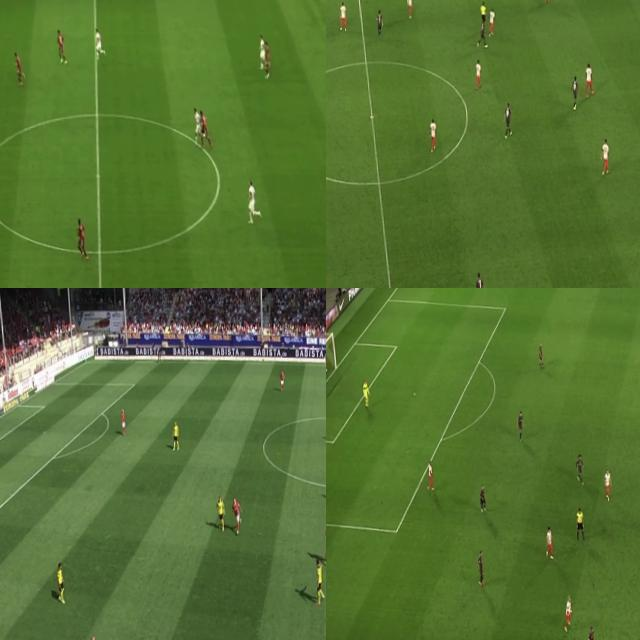player: (310, 551, 326, 605), (74, 218, 88, 262), (54, 26, 68, 66), (245, 178, 257, 224), (54, 554, 66, 600), (212, 492, 226, 531), (197, 111, 212, 147), (92, 26, 106, 64), (191, 102, 203, 146), (562, 594, 574, 634), (13, 45, 24, 87), (574, 452, 586, 488), (600, 135, 610, 174), (170, 418, 181, 452), (427, 118, 437, 154), (232, 494, 242, 530), (544, 526, 554, 562), (426, 458, 436, 494), (570, 74, 579, 113), (503, 100, 512, 138), (477, 18, 488, 48), (477, 548, 485, 588), (516, 409, 525, 444), (586, 59, 594, 98), (118, 403, 128, 434), (338, 1, 347, 35), (262, 43, 270, 79), (604, 469, 613, 501), (478, 482, 487, 514), (277, 362, 286, 393), (474, 58, 483, 88), (258, 34, 264, 74), (376, 7, 384, 37), (362, 380, 370, 410), (536, 342, 544, 369), (488, 5, 495, 35), (475, 268, 485, 288), (586, 623, 597, 640), (323, 523, 326, 563), (406, 0, 413, 17)
